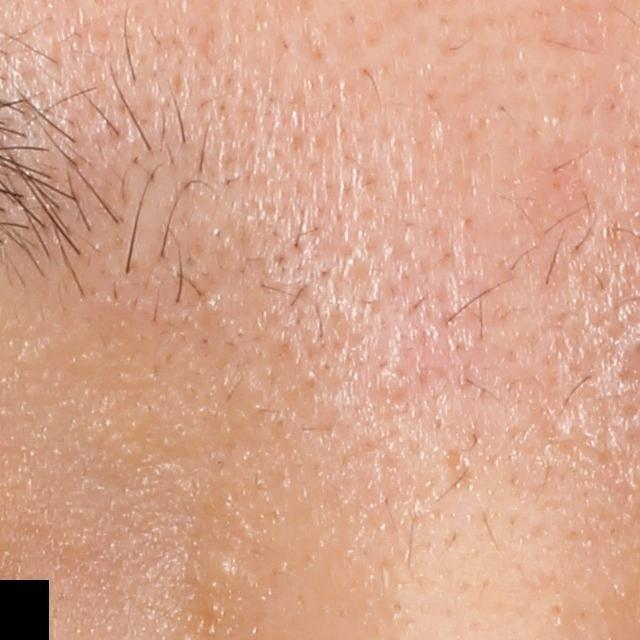atrophic_scar: (441, 444, 490, 494)
